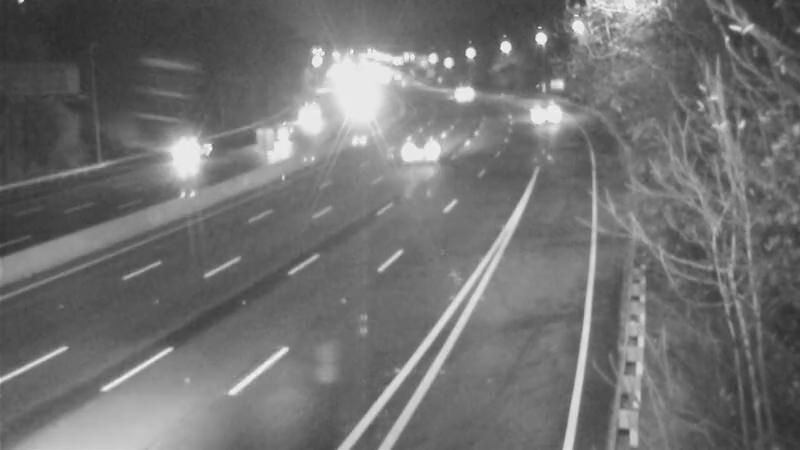vehicle: (141, 119, 221, 199), (434, 69, 484, 119), (514, 84, 564, 134), (385, 124, 435, 174), (252, 114, 302, 164), (285, 90, 335, 140)
